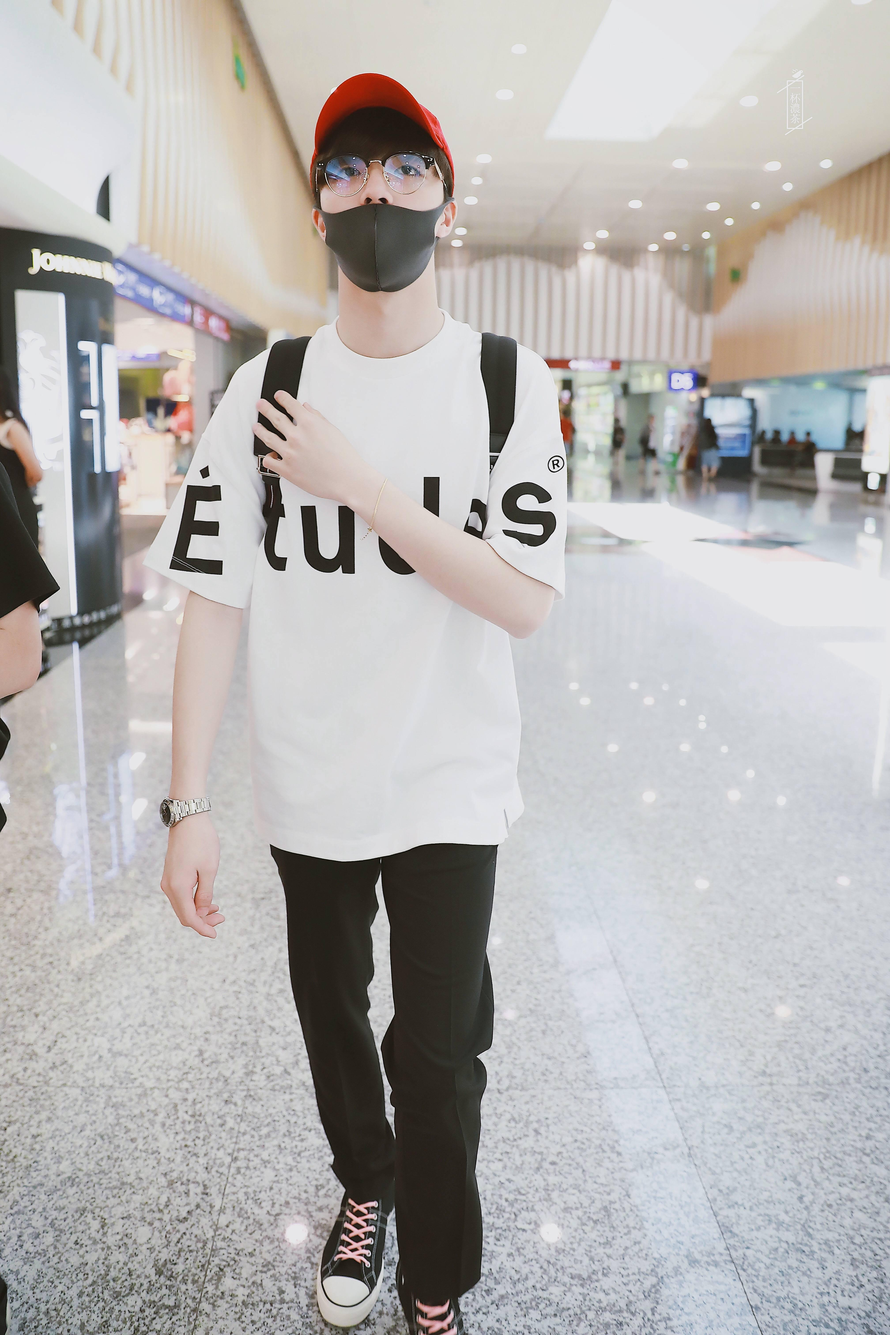WRONG: (326, 139, 438, 295)
